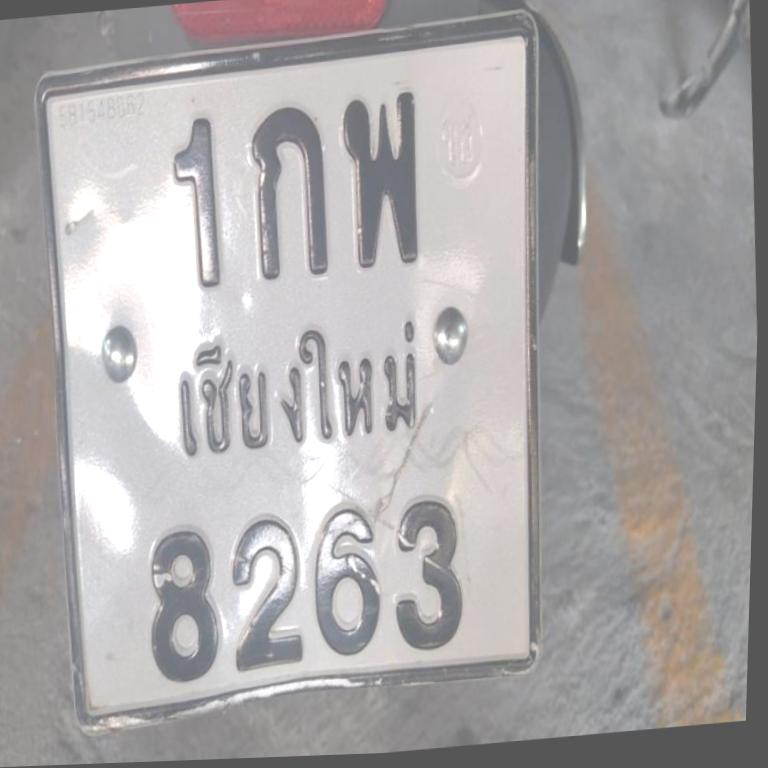license plate: (36, 26, 538, 723)
